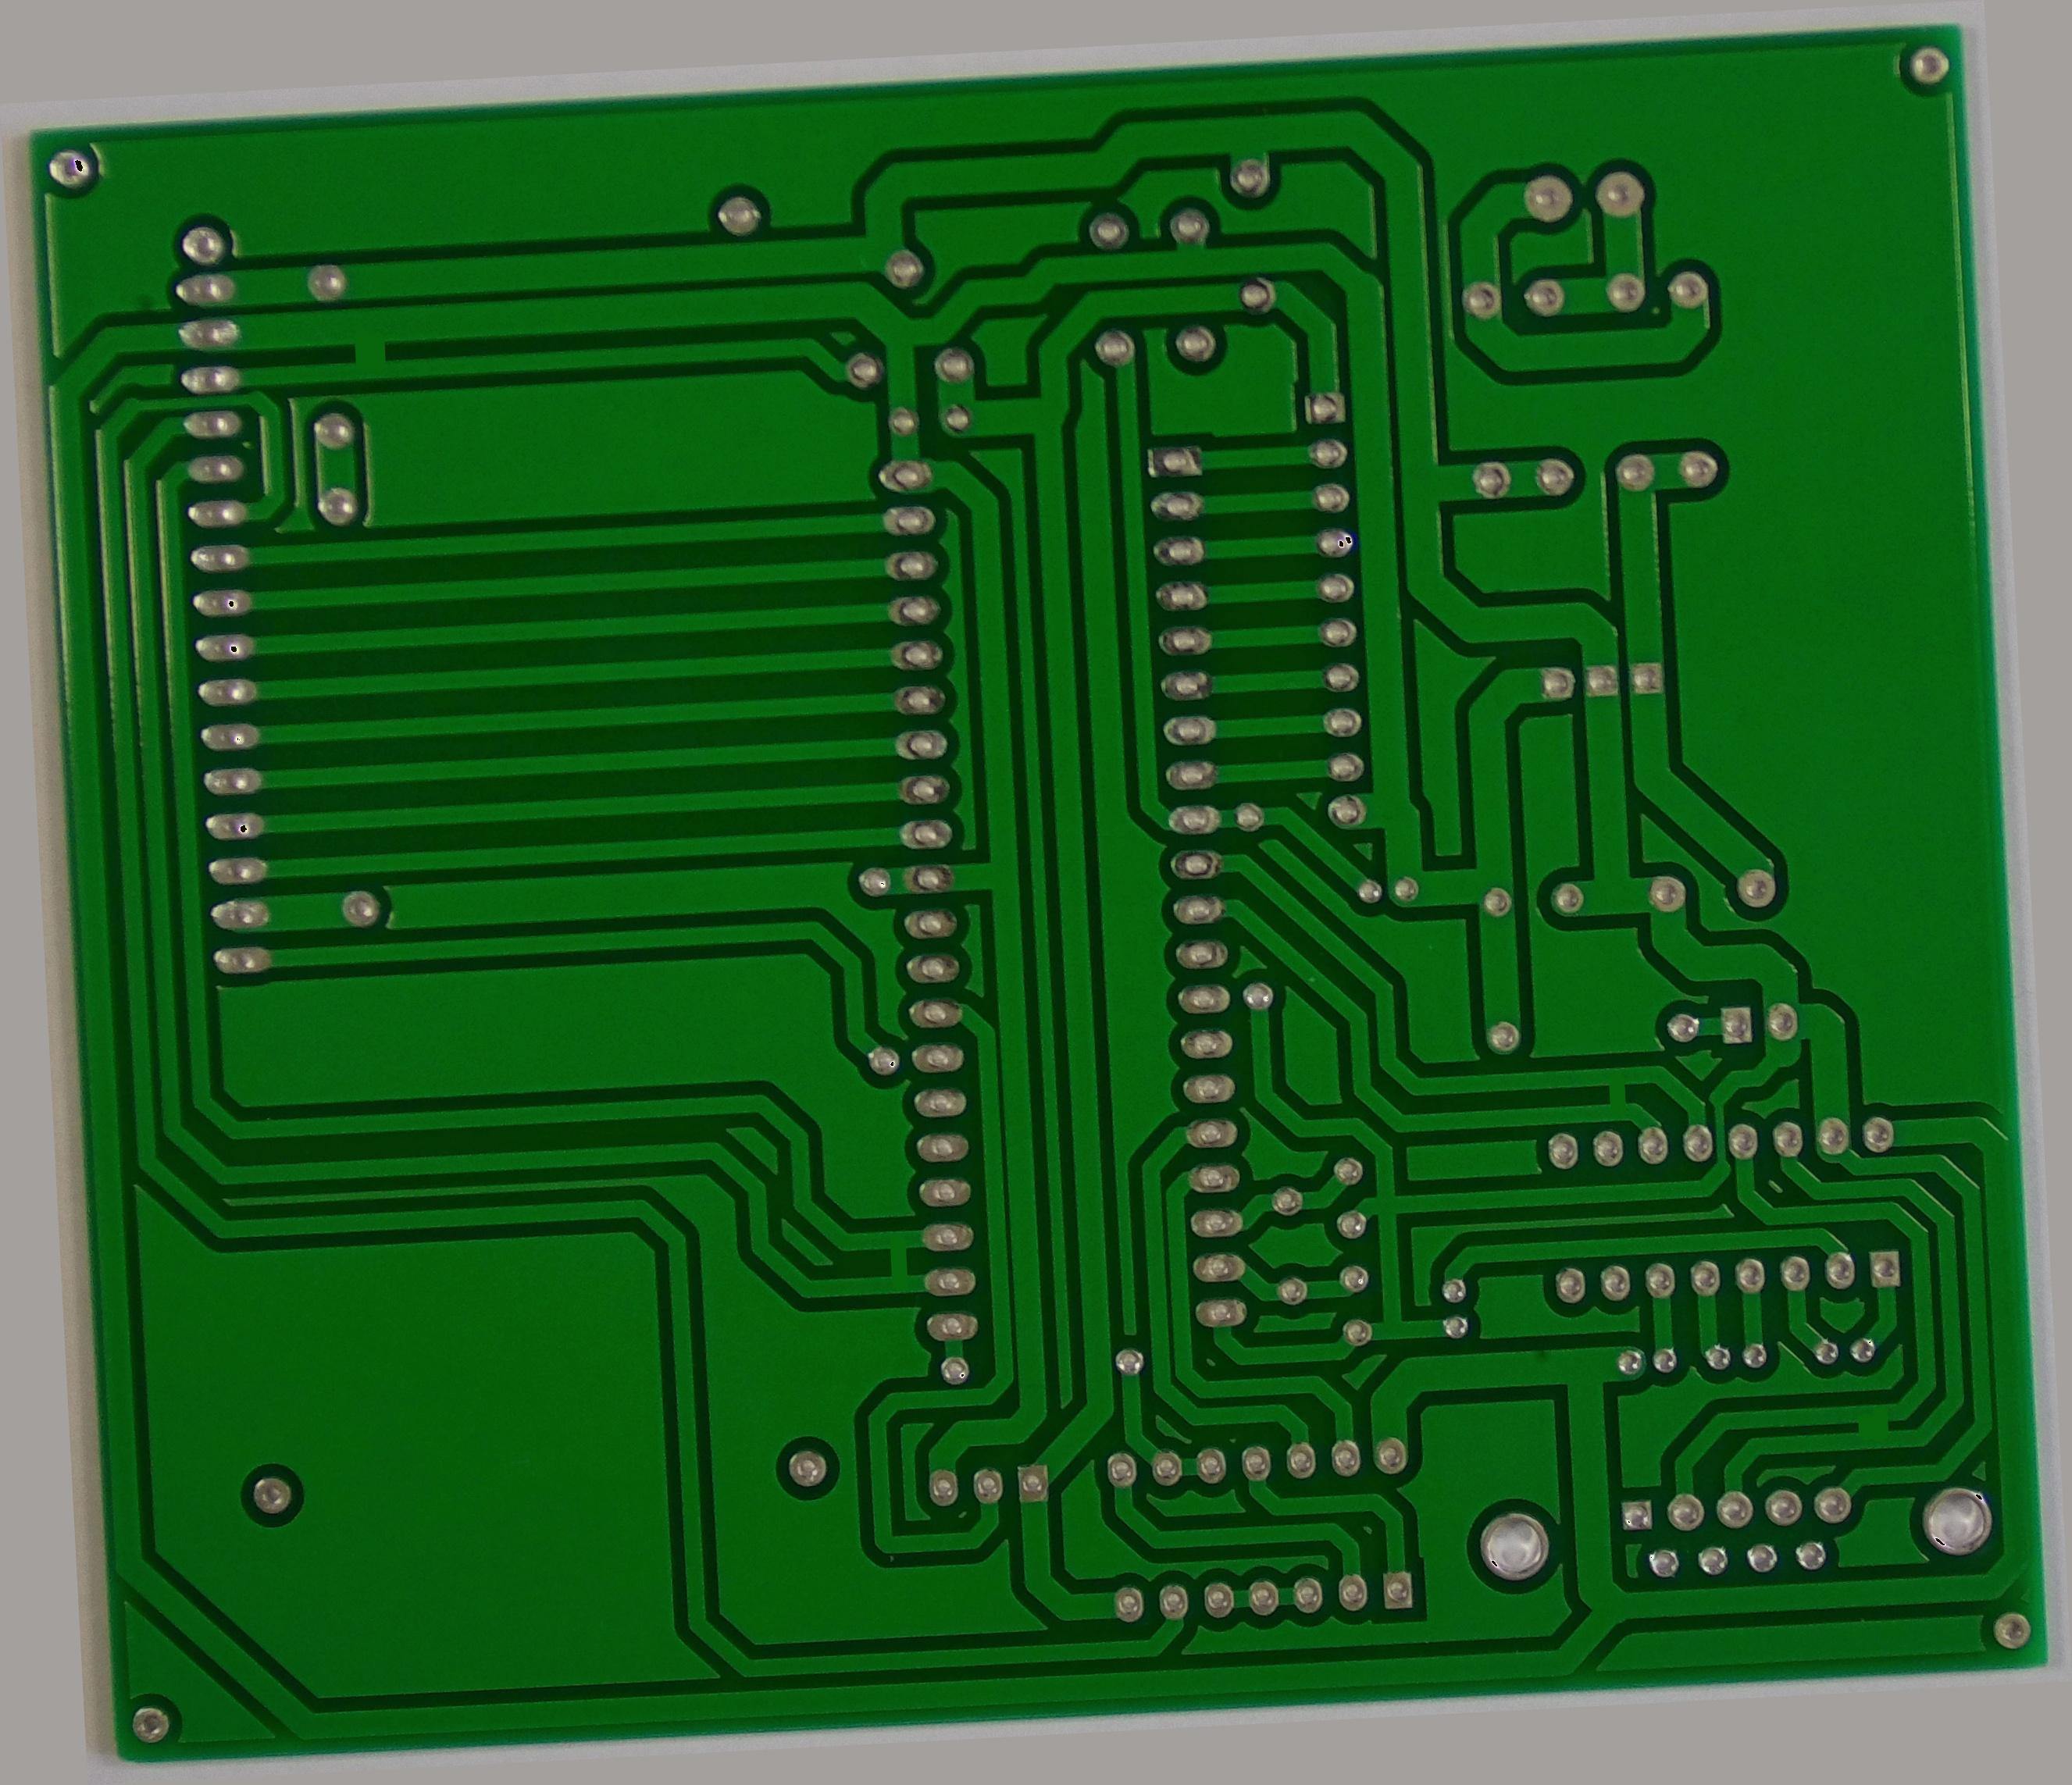short: (324, 312, 412, 389), (1831, 1396, 1919, 1459), (858, 1225, 930, 1300), (1582, 1061, 1653, 1122)
